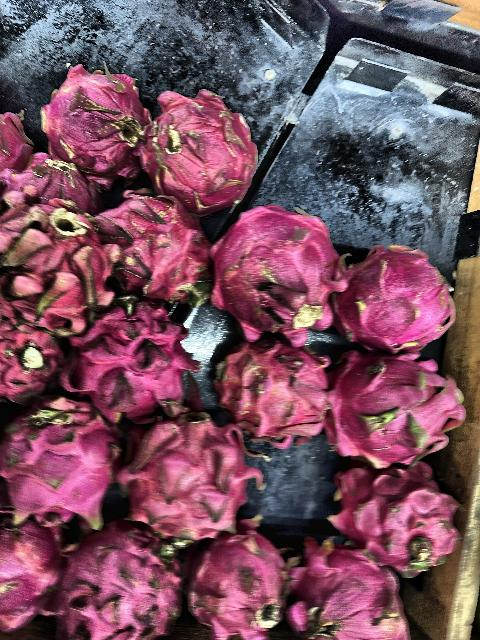buah-naga-matang: (207, 196, 343, 344), (0, 398, 124, 528), (87, 180, 213, 306), (70, 297, 198, 417), (330, 352, 466, 464), (126, 414, 248, 538), (127, 75, 247, 201), (333, 233, 459, 353), (328, 449, 452, 569), (63, 522, 188, 640), (282, 534, 418, 640), (209, 329, 336, 438), (0, 203, 112, 325), (39, 62, 143, 178), (184, 529, 288, 635), (0, 281, 74, 399), (10, 142, 108, 220)
